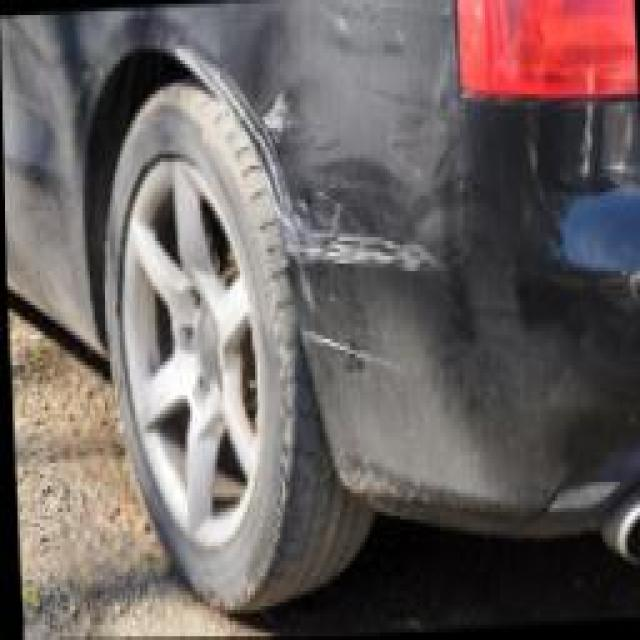Bumper: (296, 102, 640, 564)
Fender: (73, 0, 473, 271)
